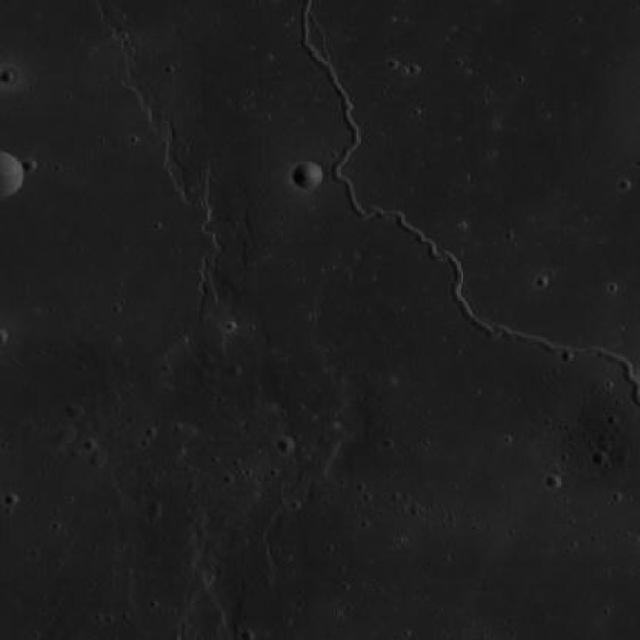crater: (0, 150, 25, 198), (294, 160, 324, 188), (59, 424, 78, 442), (90, 452, 108, 470), (278, 436, 297, 453), (0, 329, 9, 346)
